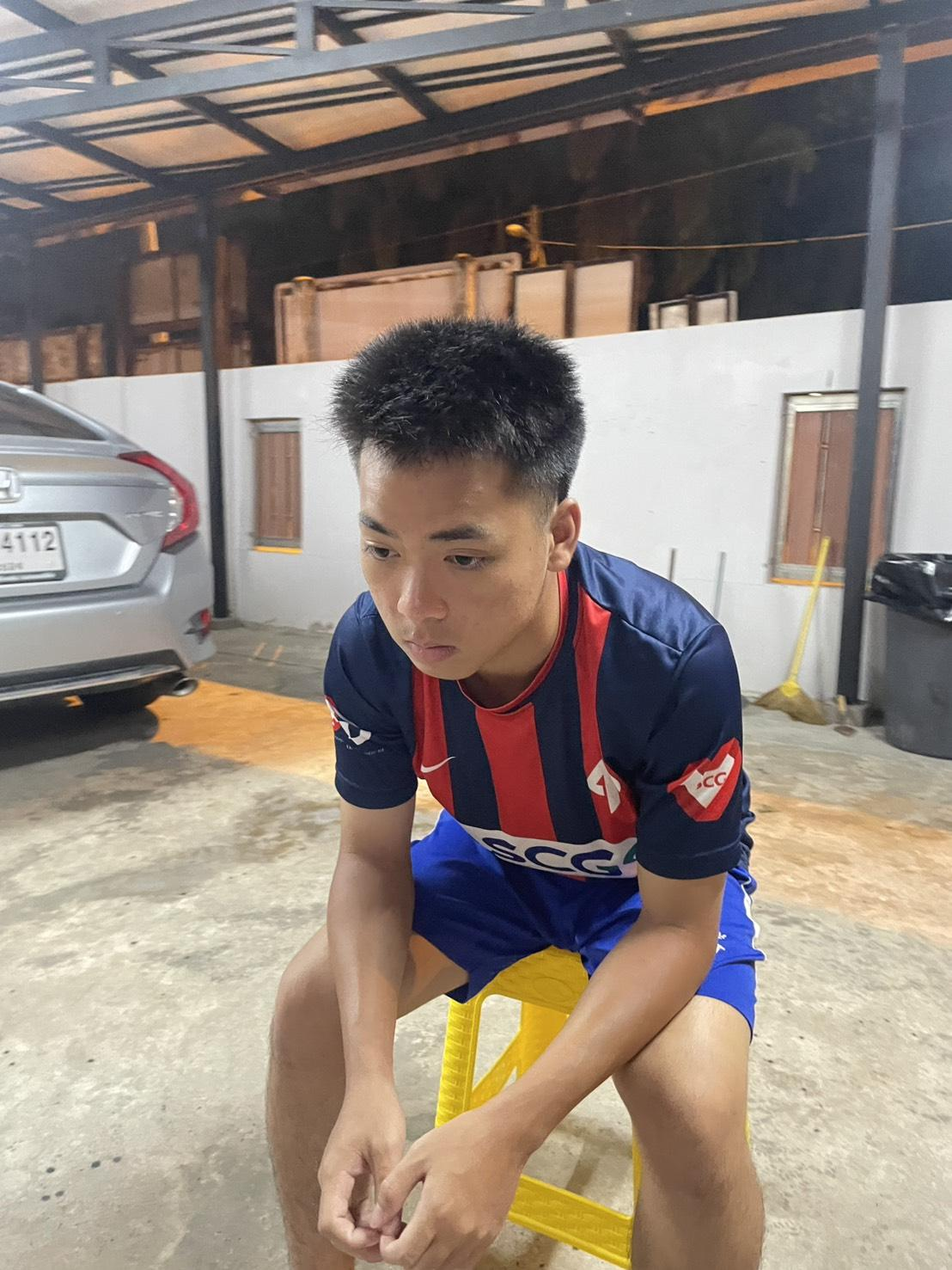BadPosture: (324, 319, 752, 890)
